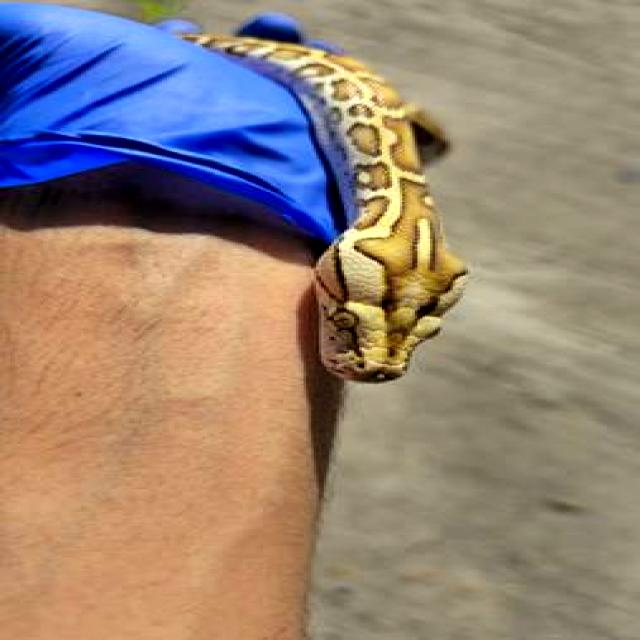Python bivittatus: (183, 35, 467, 381)
